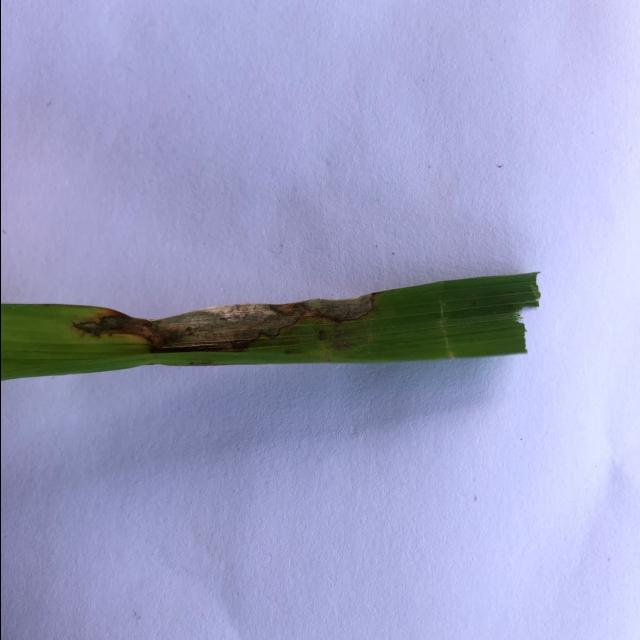Leaf Blight: (72, 293, 373, 353)
